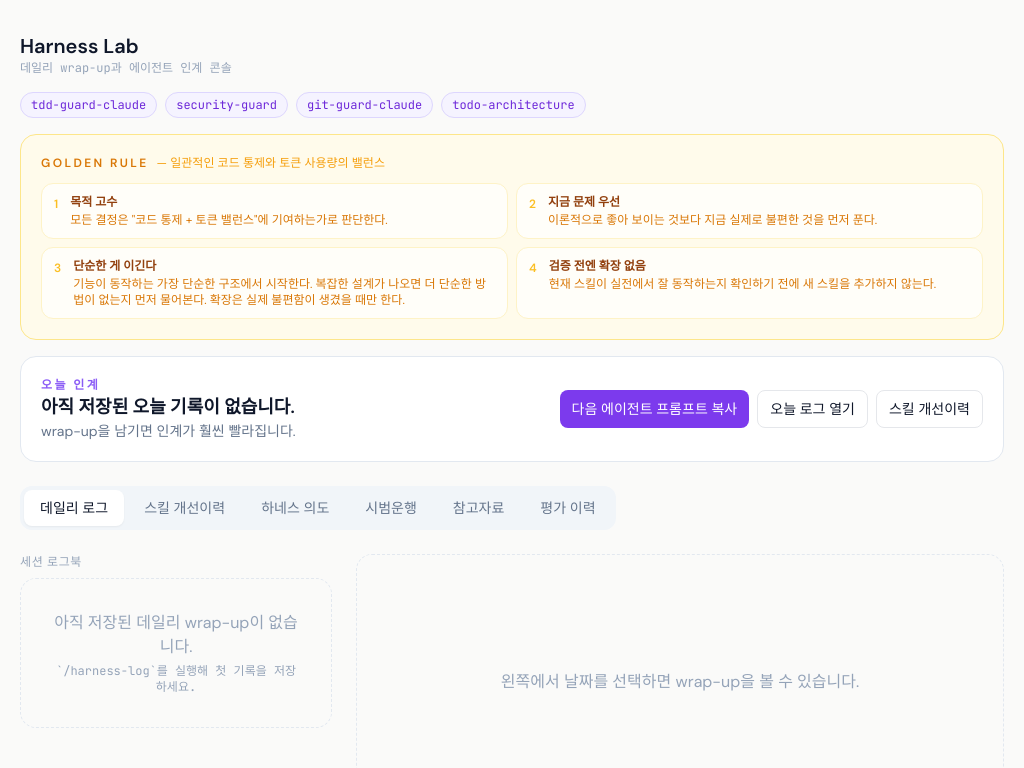
Test: HarnessLabPage › 평가 이력 탭 › 평가 이력 탭이 렌더링된다
The width and height of the screenshot is (1024, 768).
Click the button "평가 이력": click(568, 508) [524,490,612,526]
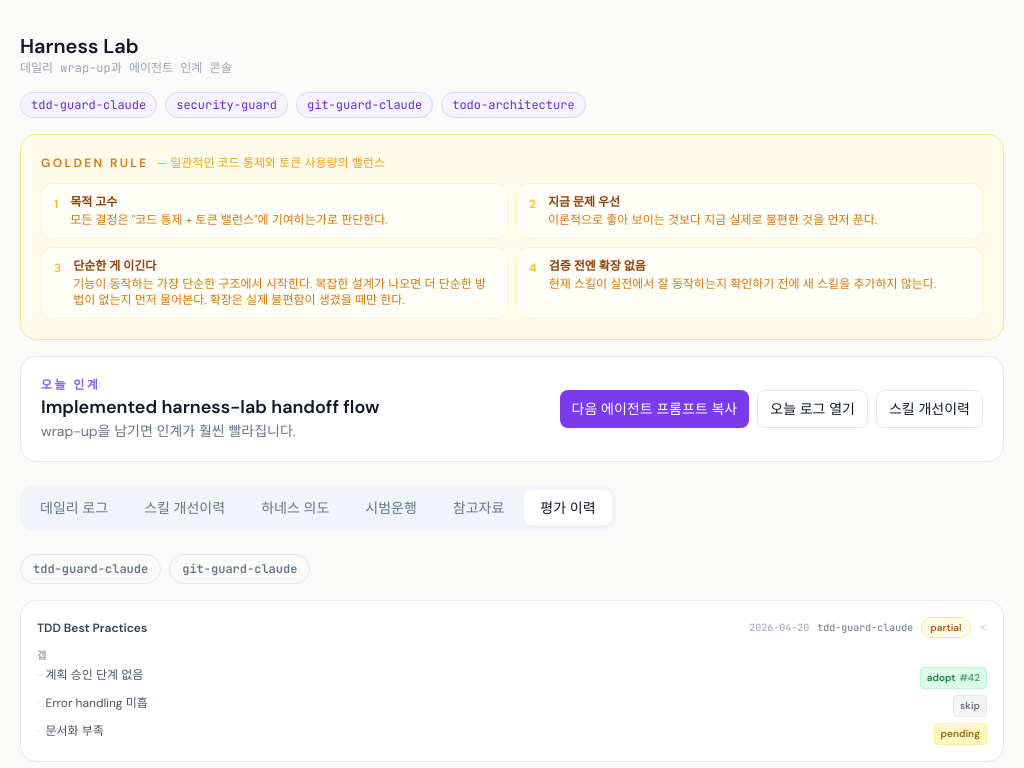
Expected: the link "TDD Best Practices" is shown, [37,620,147,636]
